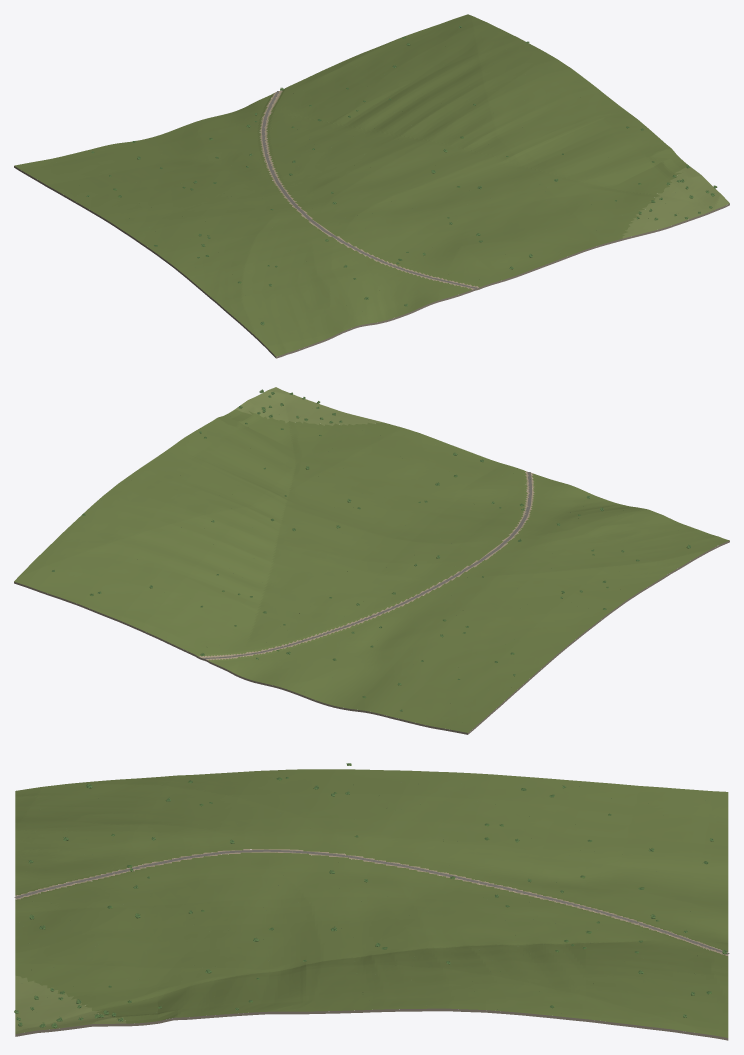
File: parca_+5_+0-yakin.glb
3 renders of one model, top to bottom at view 1: azimuth 30°, elevation 25°; view 2: azimuth 150°, elevation 25°; view 3: azimuth 270°, elevation 25°, orthographic. The views are drawn at different scales.
Parts seen in each view (by area): view 1: parca_+5_+0_arazi, parca_+5_+0_bitkiler, parca_+5_+0_yollar; view 2: parca_+5_+0_arazi, parca_+5_+0_yollar, parca_+5_+0_bitkiler; view 3: parca_+5_+0_arazi, parca_+5_+0_yollar, parca_+5_+0_bitkiler.
Part boxes in pixels (x1,y1,x2,y2): parca_+5_+0_arazi: (14, 14, 729, 358); parca_+5_+0_bitkiler: (68, 26, 717, 324); parca_+5_+0_yollar: (262, 91, 476, 288); parca_+5_+0_arazi: (14, 387, 729, 734); parca_+5_+0_yollar: (203, 472, 531, 658); parca_+5_+0_bitkiler: (51, 389, 690, 711); parca_+5_+0_arazi: (15, 769, 728, 1040); parca_+5_+0_yollar: (14, 849, 729, 954); parca_+5_+0_bitkiler: (14, 763, 727, 1028).
Size of the model in its own units: 1004 by 147 by 1004.
